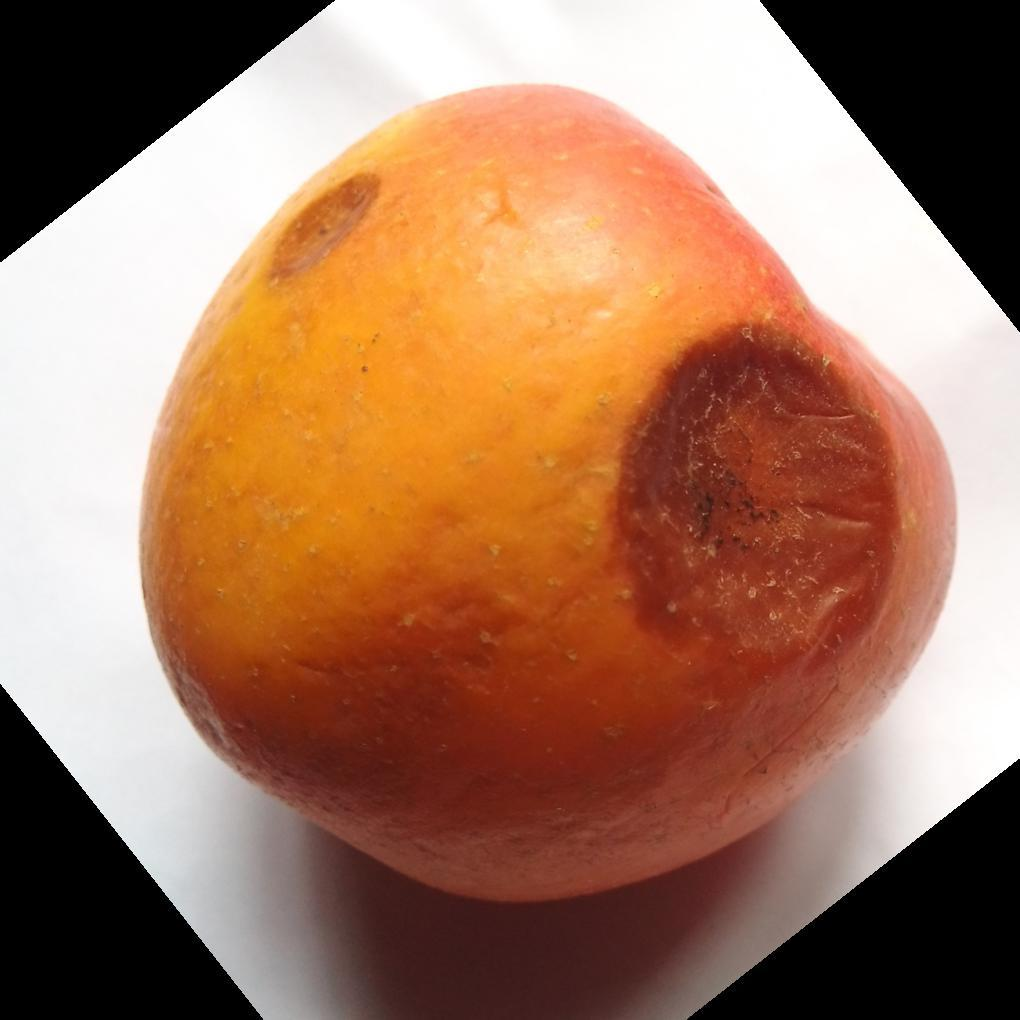FreshOrange: (134, 83, 959, 910)
